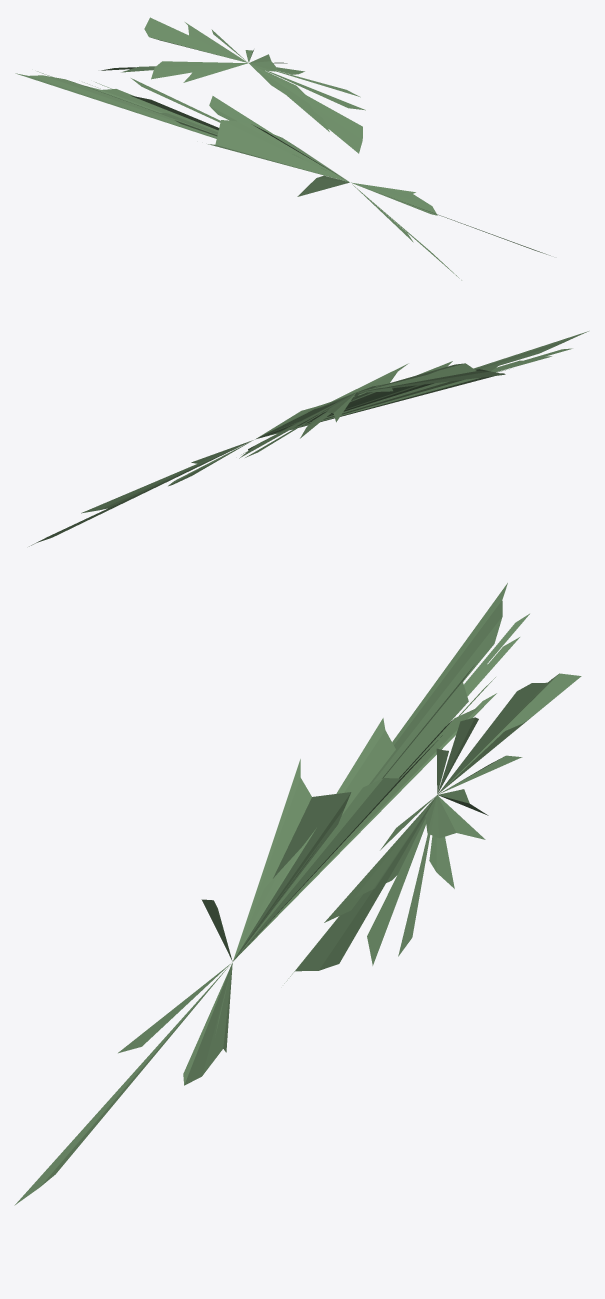
The model's file is c_1667_17821_forest.glb.
3 views of the same model, one above another, from view 1: azimuth 30°, elevation 25°; view 2: azimuth 210°, elevation 25°; view 3: azimuth 270°, elevation 25° (orthographic). The views are drawn at different scales.
Parts seen in each view (by area): view 1: geometry_0; view 2: geometry_0; view 3: geometry_0.
Boxes of the visible parts, x1=… form: geometry_0: x1=15, y1=17, x2=550, y2=280; geometry_0: x1=29, y1=331, x2=588, y2=546; geometry_0: x1=14, y1=583, x2=581, y2=1205.
Bounding box in the file's own units: 754 × 369 × 520.
